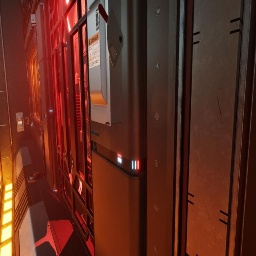EmergencyPhone ,: (25, 116, 29, 124)
SafetySwitchPanel ,: (86, 0, 123, 126), (16, 112, 24, 132)
